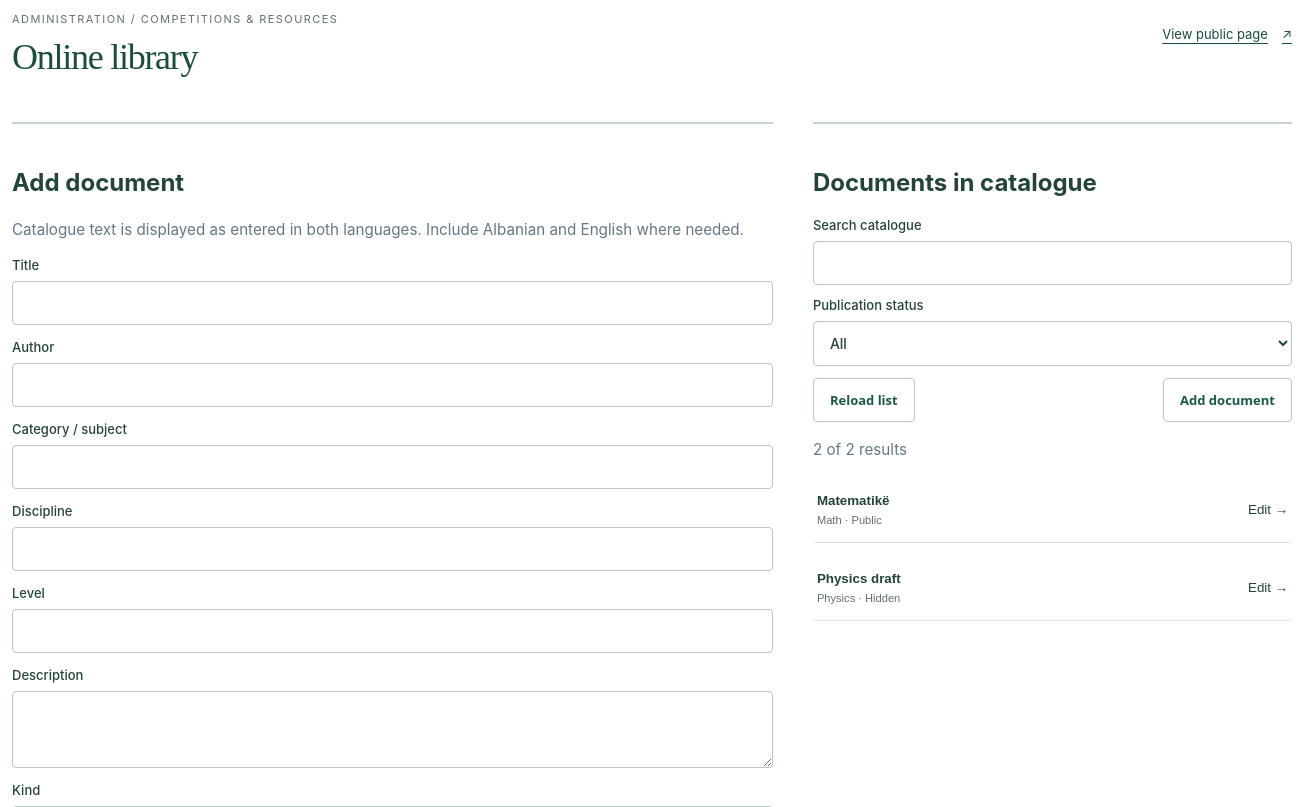
Test case: catalogue search and publication filters keep hidden records easy to find
Check: the button "Matematikë Math · Public Edit →" is shown, box x1=813 y1=477 x2=1292 y2=543
Type "matematike" into the search field labelled "Search catalogue".
click(1052, 263); type("matematike")  # box x1=813 y1=241 x2=1292 y2=285
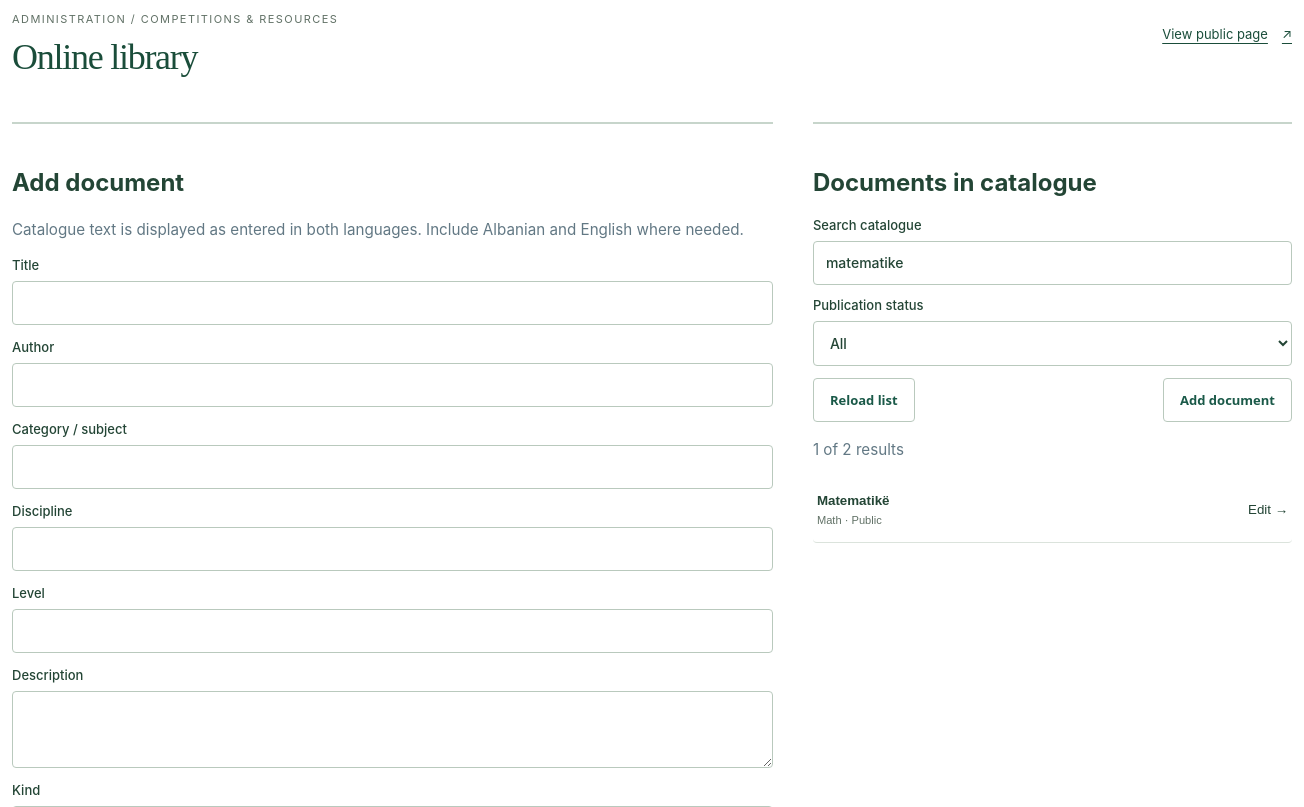
Check: the button "Matematikë Math · Public Edit →" is shown, box x1=813 y1=477 x2=1292 y2=543
Check: the button "Physics draft" is gone
Clear the search field labelled "Search catalogue" at {"x": 1052, "y": 263}, box x1=813 y1=241 x2=1292 y2=285
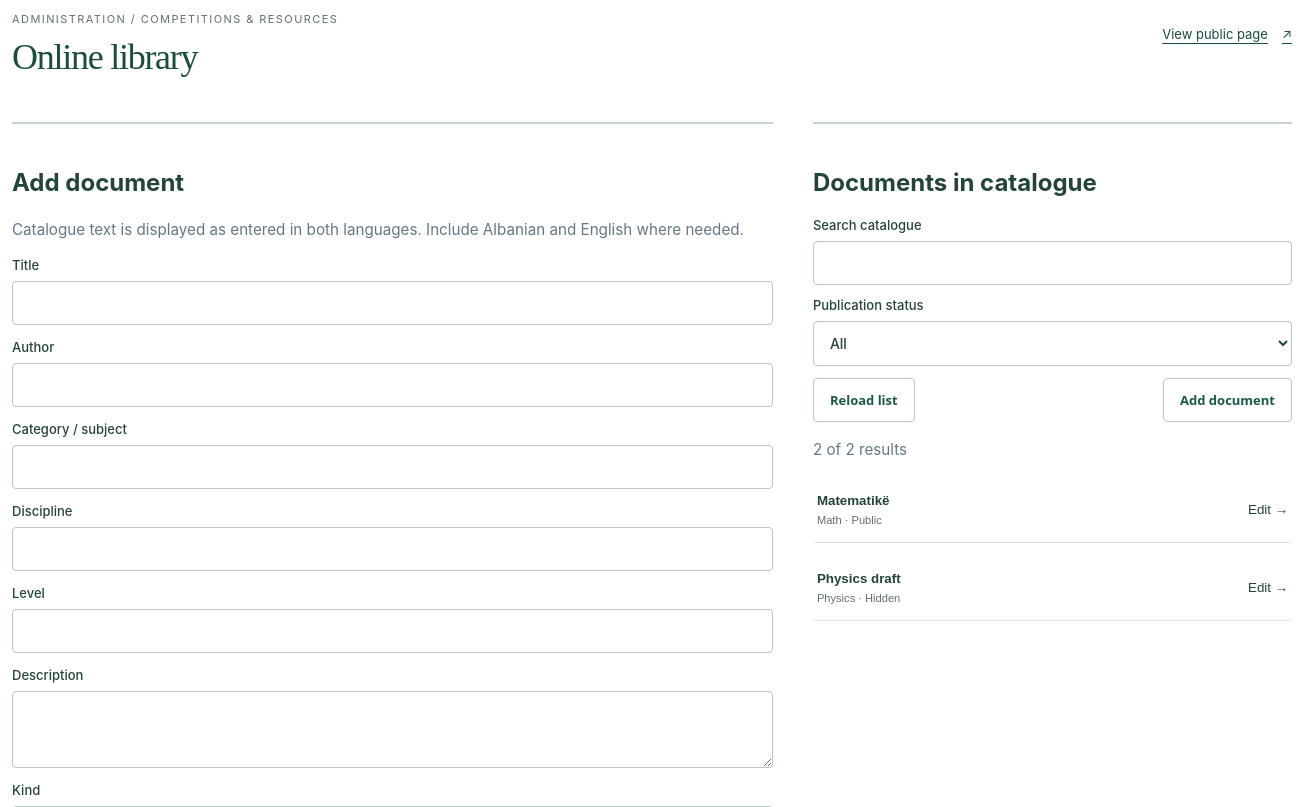
Select "Hidden" in the dropdown labelled "Publication status" at {"x": 1052, "y": 343}, box x1=813 y1=321 x2=1292 y2=366
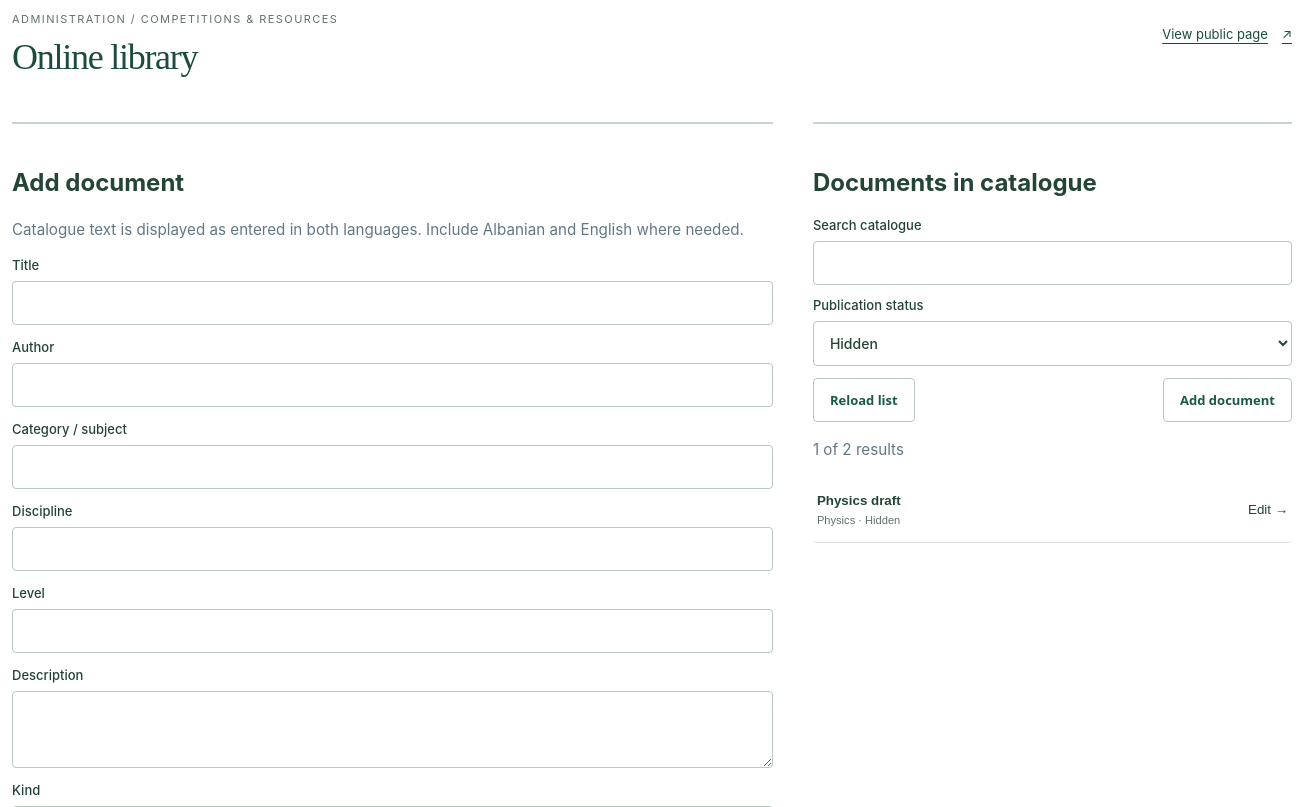
Check: the button "Physics draft Physics · Hidden Edit →" is shown, box x1=813 y1=477 x2=1292 y2=543
Check: the button "Matematikë" is gone
